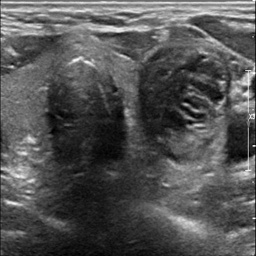mass: (141, 47, 229, 162)
